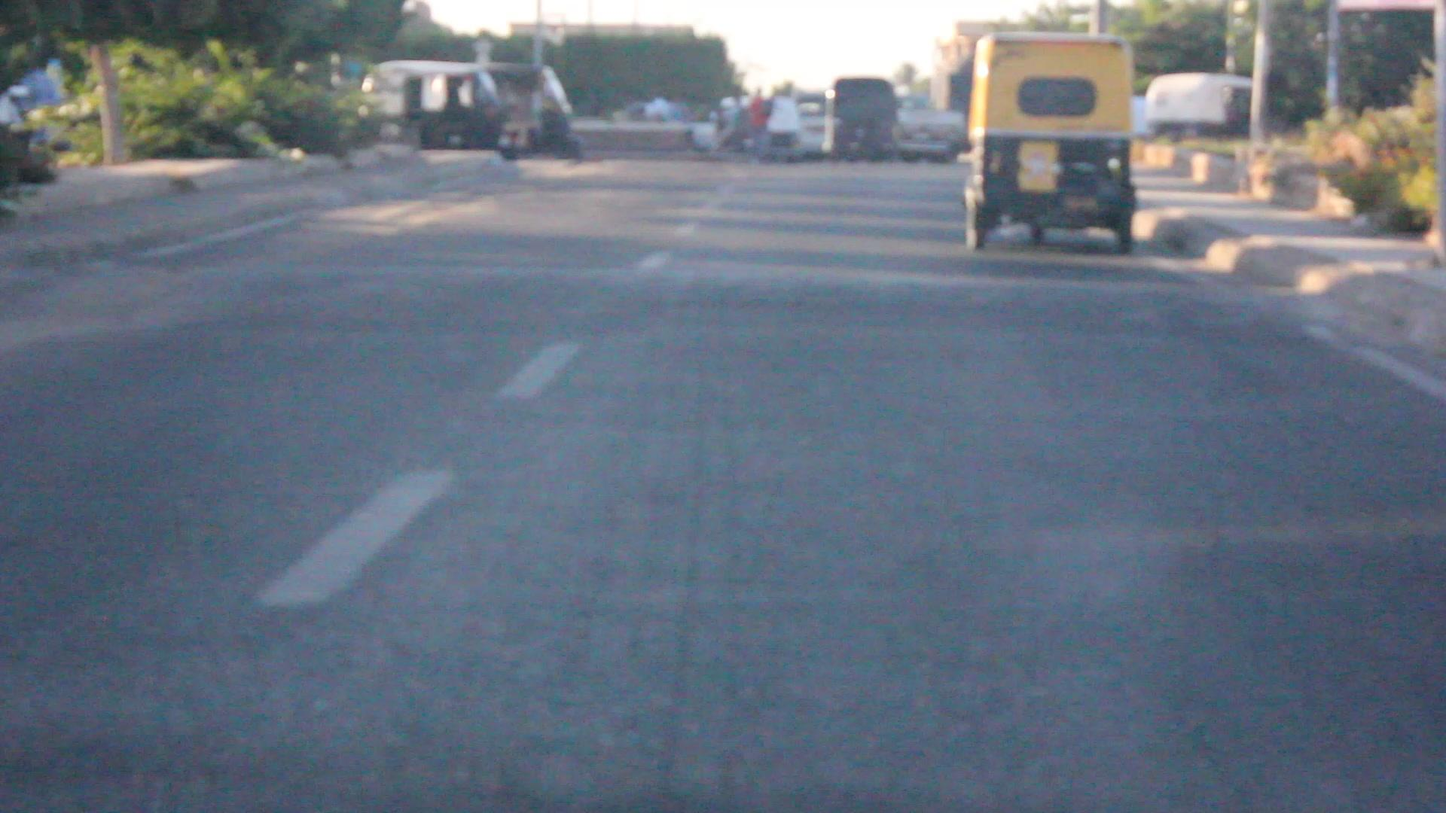Bump: (128, 263, 1282, 344)
